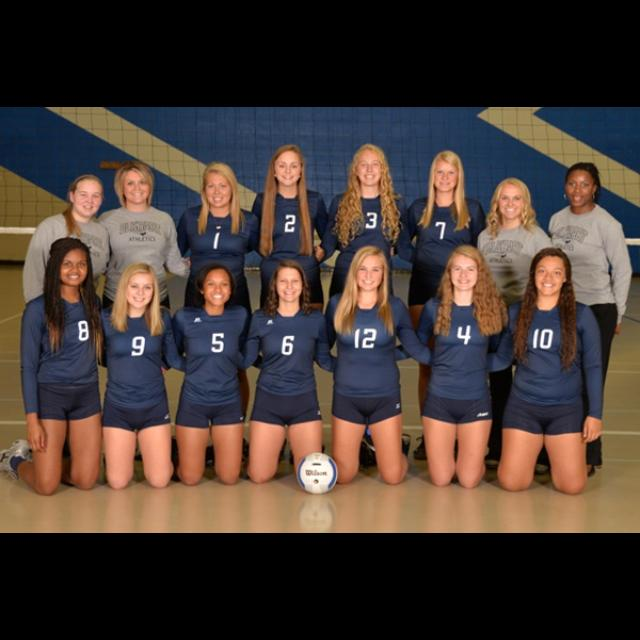head: (54, 242, 92, 288), (532, 249, 568, 297), (68, 175, 106, 219), (564, 163, 600, 209), (448, 247, 484, 293), (122, 264, 158, 310), (354, 247, 388, 293), (203, 164, 237, 208), (201, 266, 235, 308), (354, 144, 386, 188), (497, 177, 529, 221), (433, 150, 463, 193), (274, 146, 304, 188), (276, 260, 304, 304), (121, 167, 153, 205)
person: (175, 143, 401, 463), (132, 159, 328, 451), (0, 236, 170, 498), (90, 158, 228, 448), (314, 244, 470, 488), (370, 243, 514, 492), (20, 172, 148, 450), (392, 148, 503, 462), (143, 262, 293, 488), (232, 256, 368, 488), (326, 144, 416, 464), (545, 160, 635, 480), (494, 245, 606, 499), (98, 260, 220, 492), (476, 173, 560, 474)
